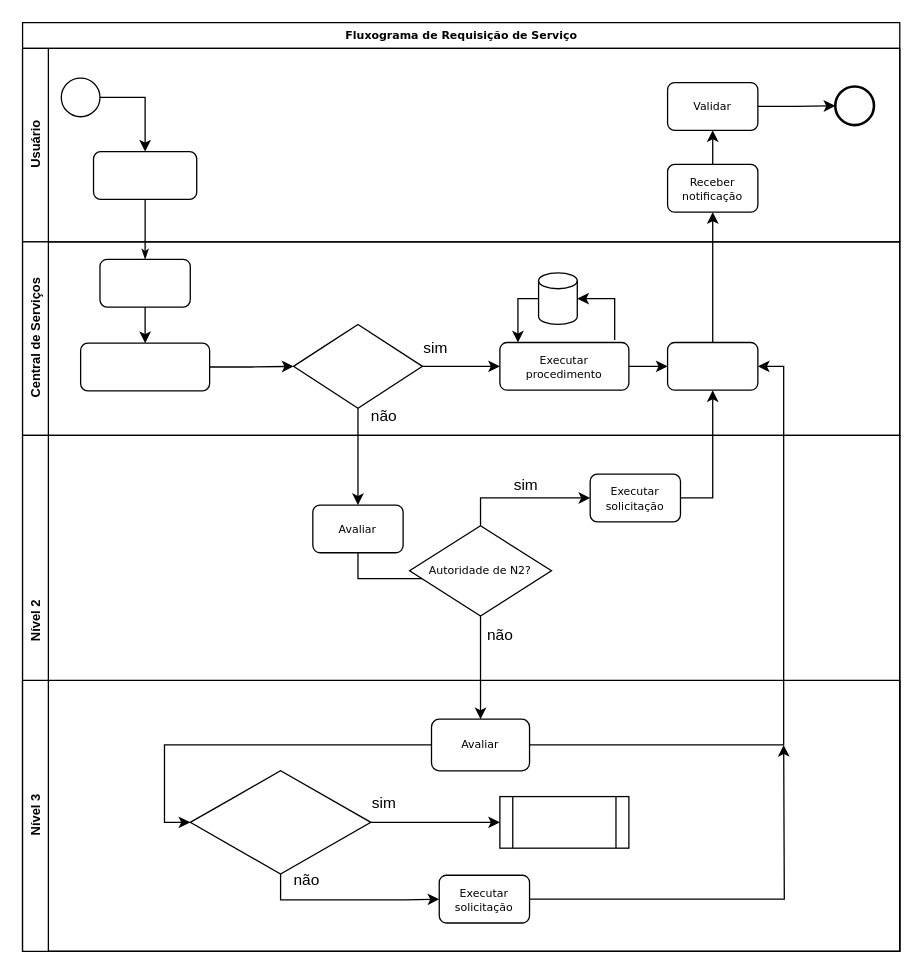
Image size: 922x974. Some labels were removed from this diagram. The centre of each missing label's shape, as x and y in pixels:
"Autoridade da Central?" goes at point (357, 365).
"Classificar" goes at point (144, 366).
"Fechar" goes at point (712, 365).
"Registrar requisição" goes at point (144, 282).
"Requisição com dependência de fornecedor ?" goes at point (280, 821).
"Solicitar serviço" goes at point (144, 174).
"Subprocesso com fornecedor" goes at point (564, 821).
